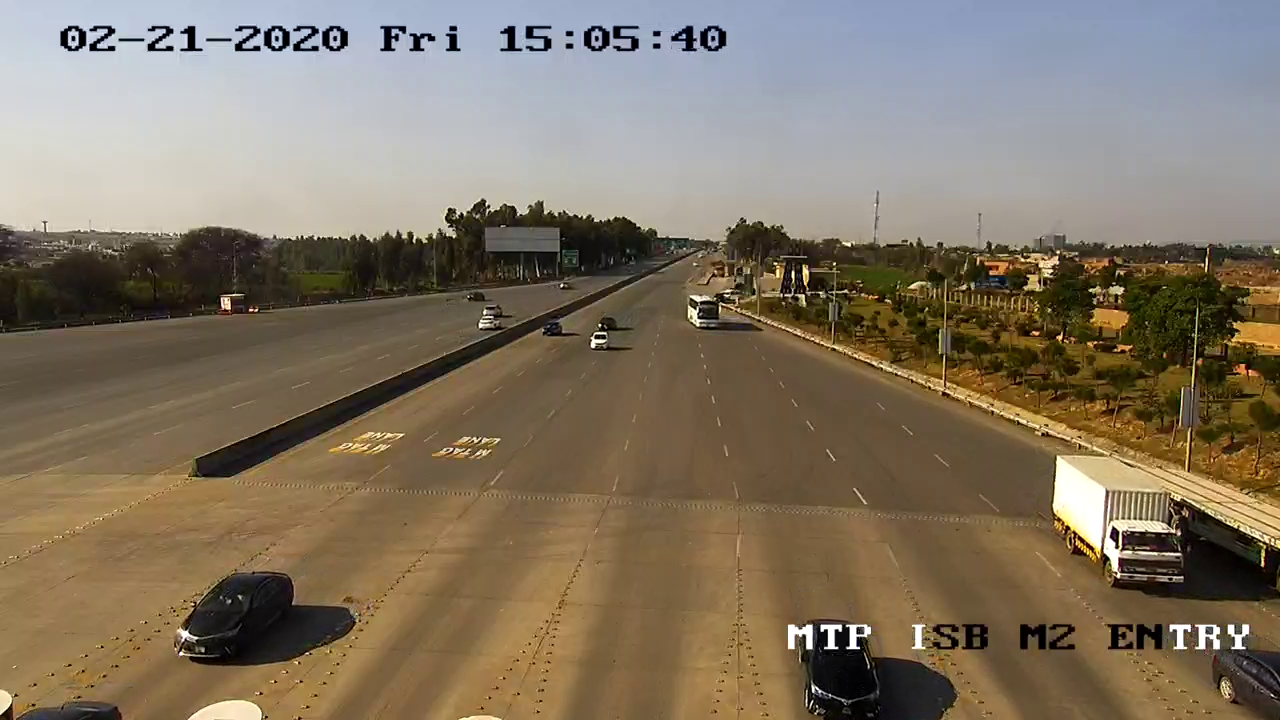f1: (149, 560, 309, 675)
f5: (1040, 442, 1208, 598)
